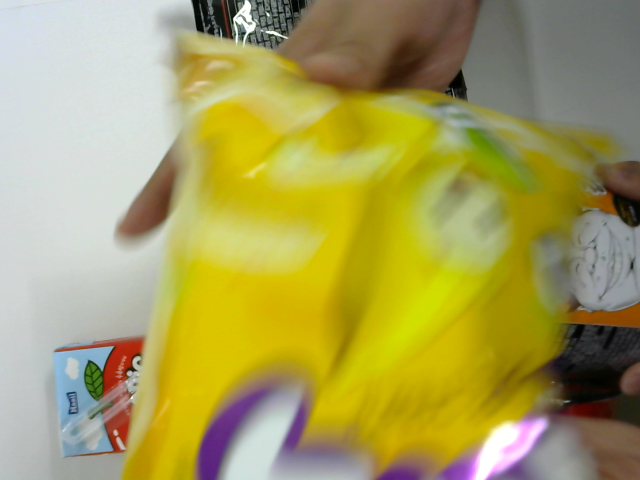Banana_Kick: (127, 40, 584, 480)
Hejangchan: (483, 178, 640, 421)
Picnic_Apple: (57, 342, 179, 458)
Sinramen_Black: (191, 4, 473, 132)
